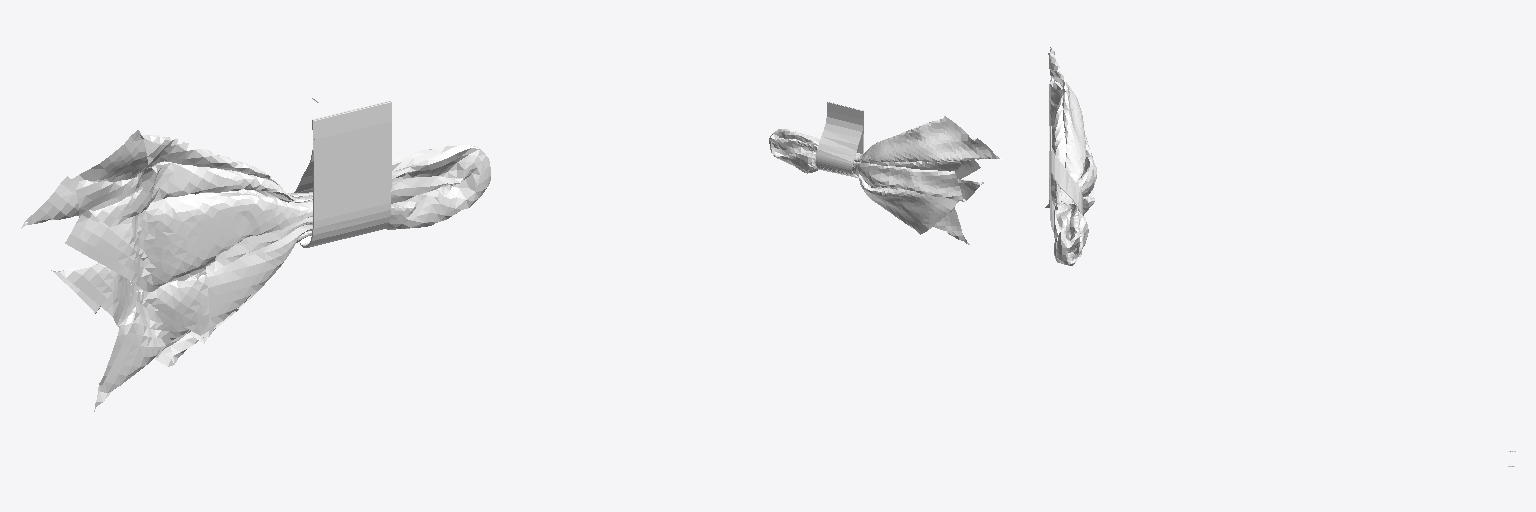
The robot description file, URDF, robot "model.urdf":
<?xml version="0.0" ?>
<robot name="model.urdf">
  <link name="baseLink">
    <contact>
      <friction_anchor/>
      <lateral_friction value="0.3"/>
      <rolling_friction value="0.0"/>
      <contact_cfm value="0.0"/>
      <contact_erp value="1.0"/>
    </contact>
    <inertial>
       <origin rpy="0 0 0" xyz="0 0 0"/>
       <mass value="0.1"/>
       <inertia ixx="8e-05" ixy="0" ixz="0" iyy="0.0002" iyz="0" izz="0.0002"/>
    </inertial>
    <visual>
      <geometry>
        <mesh filename="texture.obj" scale="1 1 1"/>
      </geometry>
      <material name="white">
        <color rgba="1. 1. 1. 1."/>
      </material>
    </visual>
    <collision>
      <geometry>
    	 	<mesh filename="texture.obj" scale="1 1 1"/>
      </geometry>
    </collision>
  </link>
</robot>

--- Facts derived from the render (not from the file) ---
3 views of the same robot in one strip: view 1: azimuth 30°, elevation 25°; view 2: azimuth 150°, elevation 25°; view 3: azimuth 270°, elevation 25° (orthographic).
Robot: model.urdf — 1 links, 0 joints (none); root link baseLink; default pose: all joints at 0.
Visible links, largest first — view 1: baseLink; view 2: baseLink; view 3: baseLink.
Link boxes in pixels (x1,y1,x2,y2): baseLink: (21, 98, 490, 411); baseLink: (533, 102, 1002, 409); baseLink: (1045, 45, 1515, 466).
Size in the robot's own frame: 0.6064 by 0.579 by 0.4096 metres.
Meshes: 1 distinct files referenced, 1 mesh visuals loaded (1 OBJ).